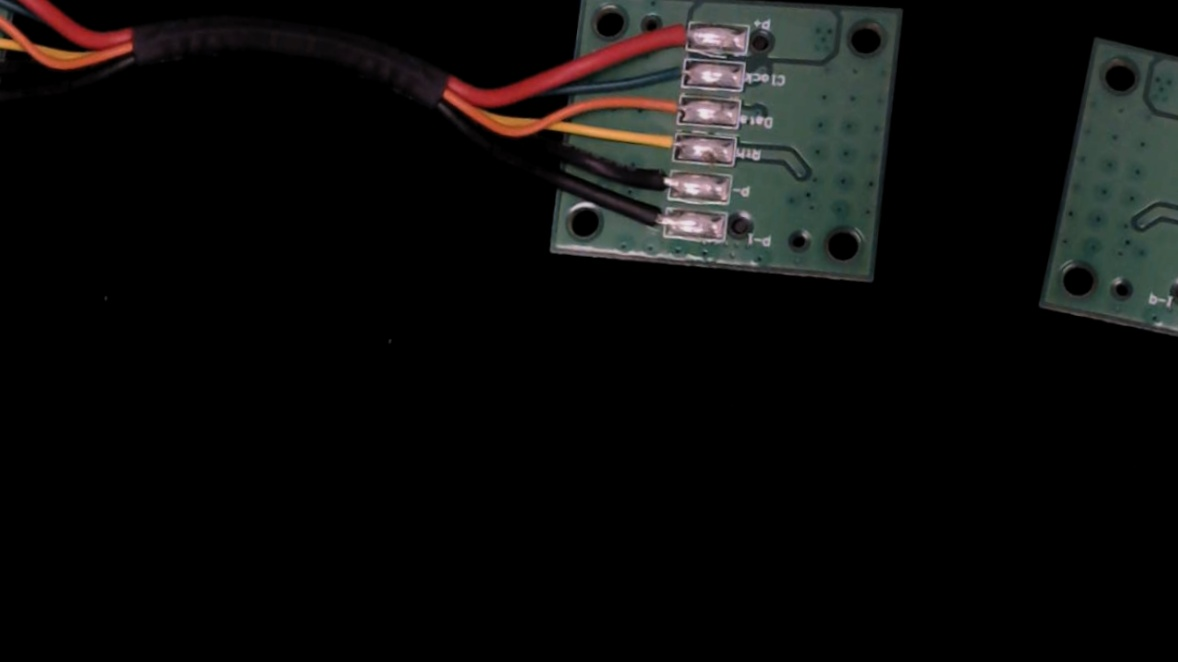Black: (617, 161, 685, 201)
Black1: (616, 199, 681, 239)
Green: (642, 51, 701, 91)
Orange: (645, 89, 694, 125)
Red: (640, 15, 702, 54)
Yellow: (628, 120, 692, 164)
